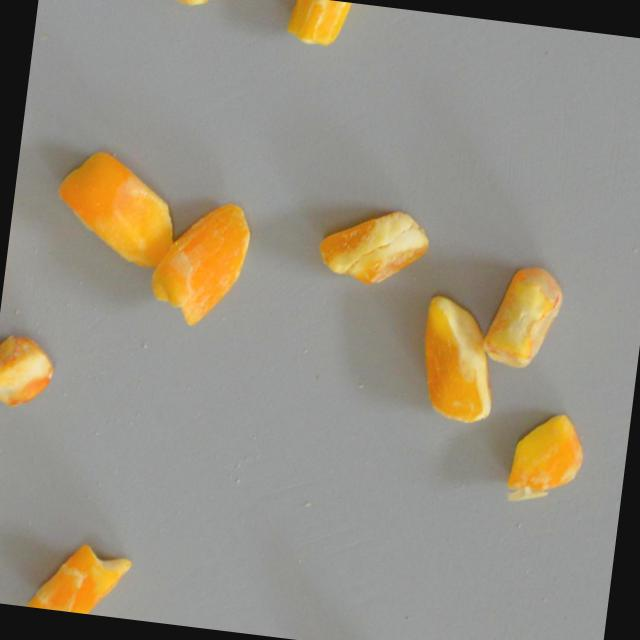agrietado: (142, 191, 256, 335)
pelicula: (42, 138, 185, 272), (393, 290, 504, 426), (473, 249, 573, 381), (496, 398, 595, 530), (309, 200, 432, 296), (19, 538, 135, 619), (0, 331, 60, 422), (277, 0, 368, 55), (132, 0, 220, 27)
